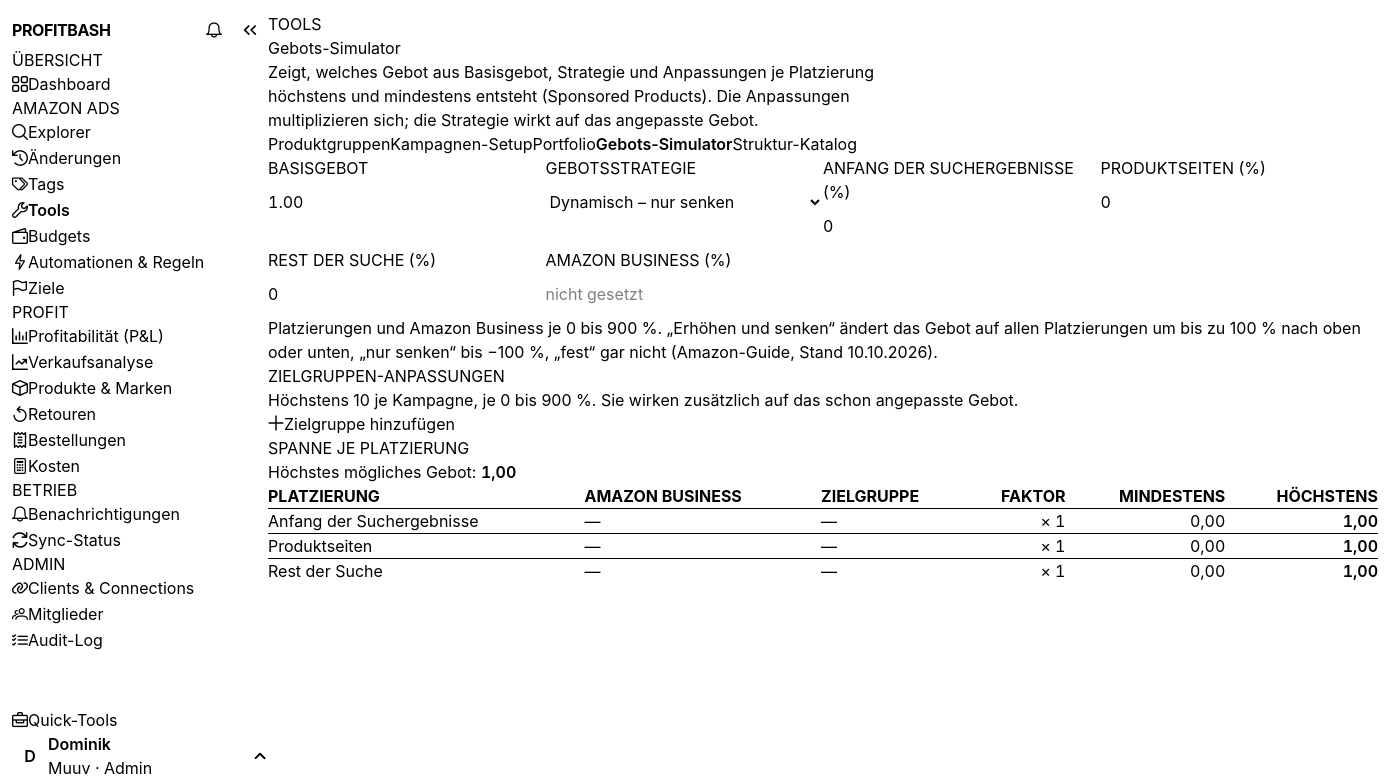
Seite „Gebots-Simulator“ › erklärt ungültige Eingaben statt zu rechnen
Replace the text in the field labelled "Anfang der Suchergebnisse (%)" with "950" at point(962, 226), box [823,204,1100,248]
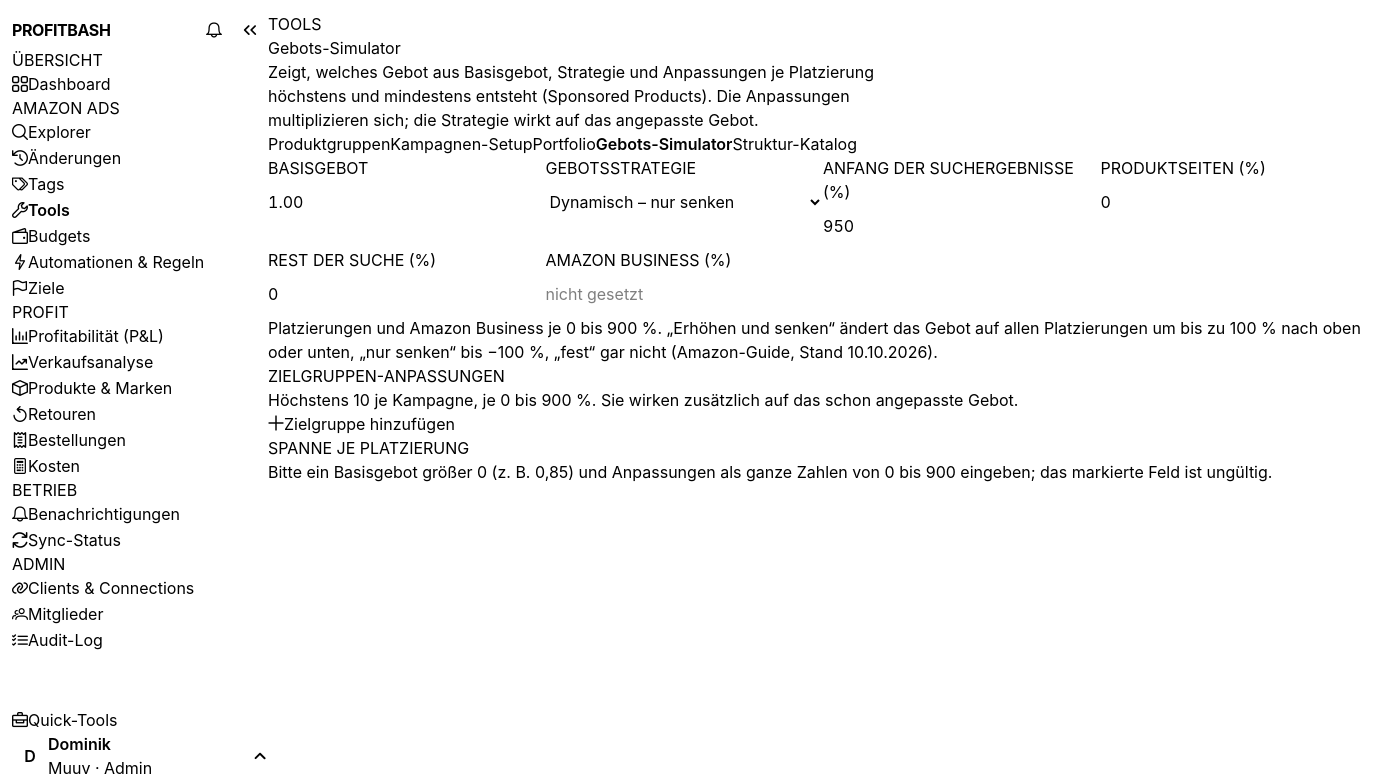
expect the text "900" is shown: met, box [268,462,1272,482]
